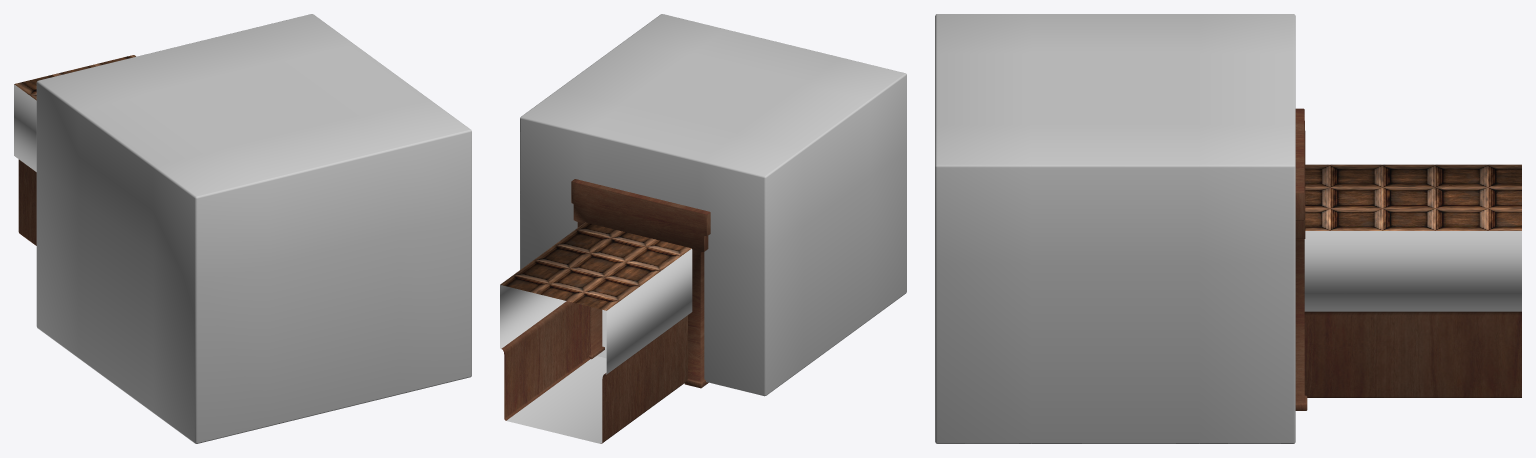
Rendered from ContractRoom.fbx.
3 renders of one model, left to right at view 1: azimuth 30°, elevation 25°; view 2: azimuth 150°, elevation 25°; view 3: azimuth 270°, elevation 25°, orthographic. The views are drawn at different scales.
Visible parts, largest first — view 1: ContractRoom, LastCorridor; view 2: ContractRoom, LastCorridor, DoorwayContract; view 3: ContractRoom, LastCorridor, DoorwayContract.
Part boxes in pixels (left/top/right/bottom): ContractRoom: left=36, top=14, right=471, bottom=443; LastCorridor: left=14, top=55, right=135, bottom=245; ContractRoom: left=520, top=14, right=906, bottom=396; LastCorridor: left=500, top=222, right=692, bottom=443; DoorwayContract: left=571, top=179, right=710, bottom=388; ContractRoom: left=935, top=14, right=1295, bottom=443; LastCorridor: left=1304, top=164, right=1521, bottom=397; DoorwayContract: left=1295, top=108, right=1307, bottom=410.
Bounding box in the file's own units: 4.68 × 4.05 × 7.62.
